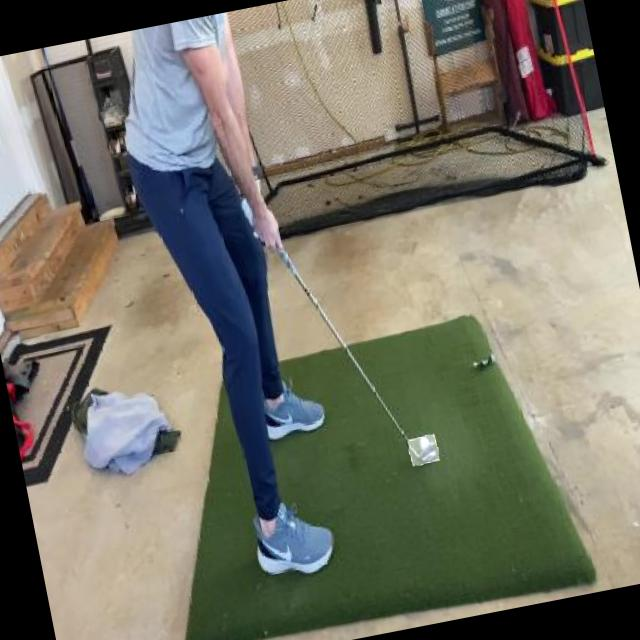club head: (407, 434, 440, 466)
